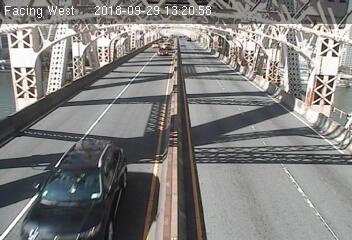car: (16, 141, 132, 240), (156, 46, 169, 56)
